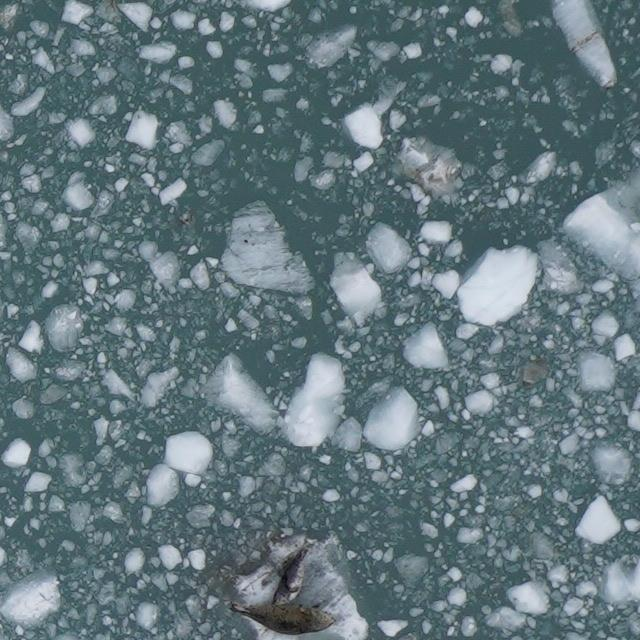seal: (222, 597, 343, 639), (269, 536, 317, 605)
